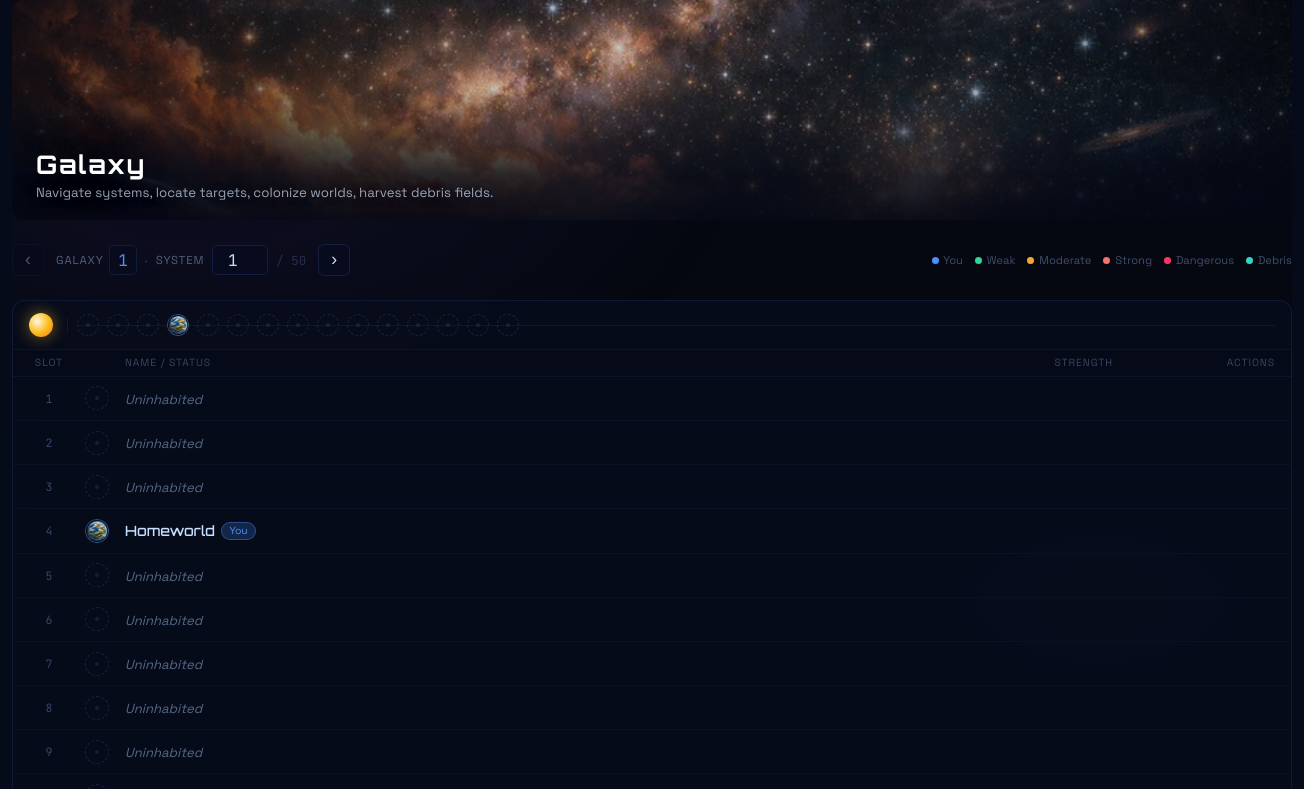
it: GalaxyPanel › prev button decrements system and syncs the inline input
The width and height of the screenshot is (1304, 789).
Navigate to system 3 first
Replace the text in the number field labelled "System" with "3" at (240, 260), box [212,245,268,275]
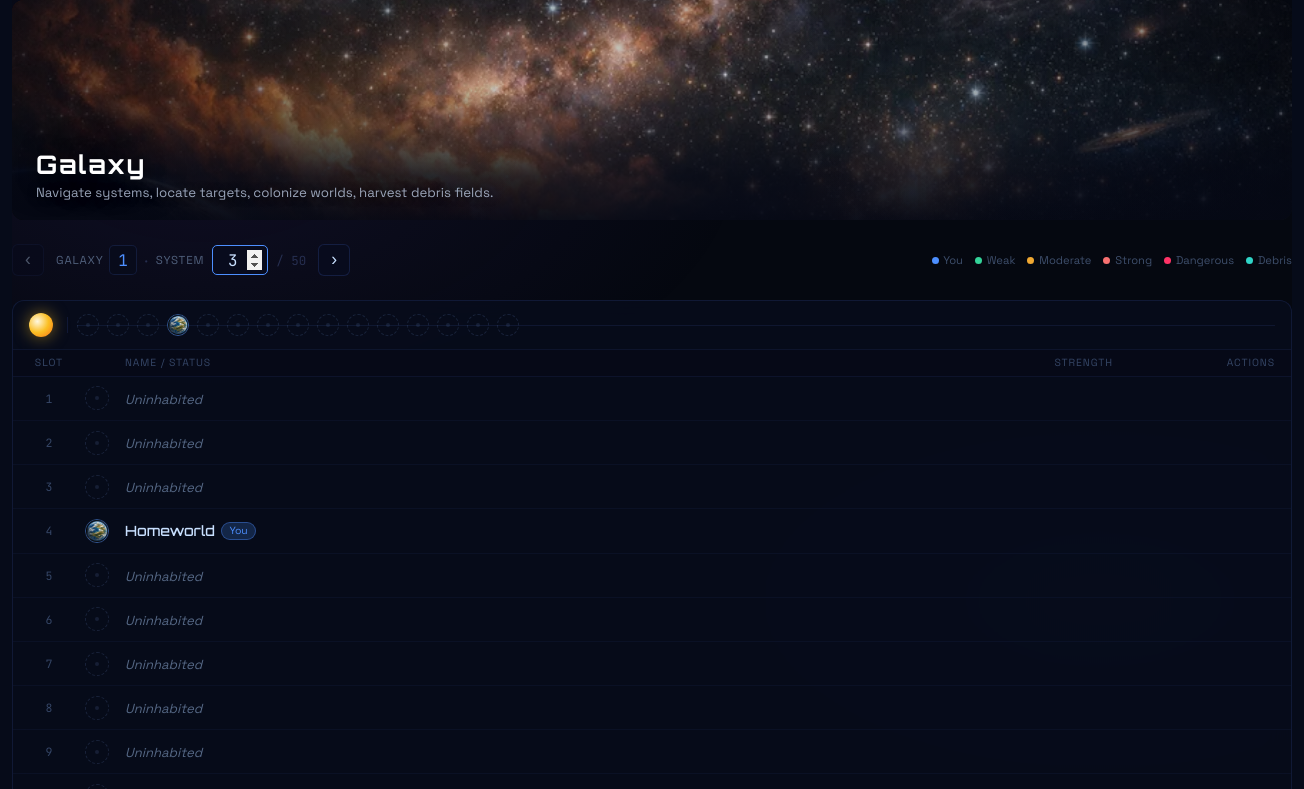
Press Tab
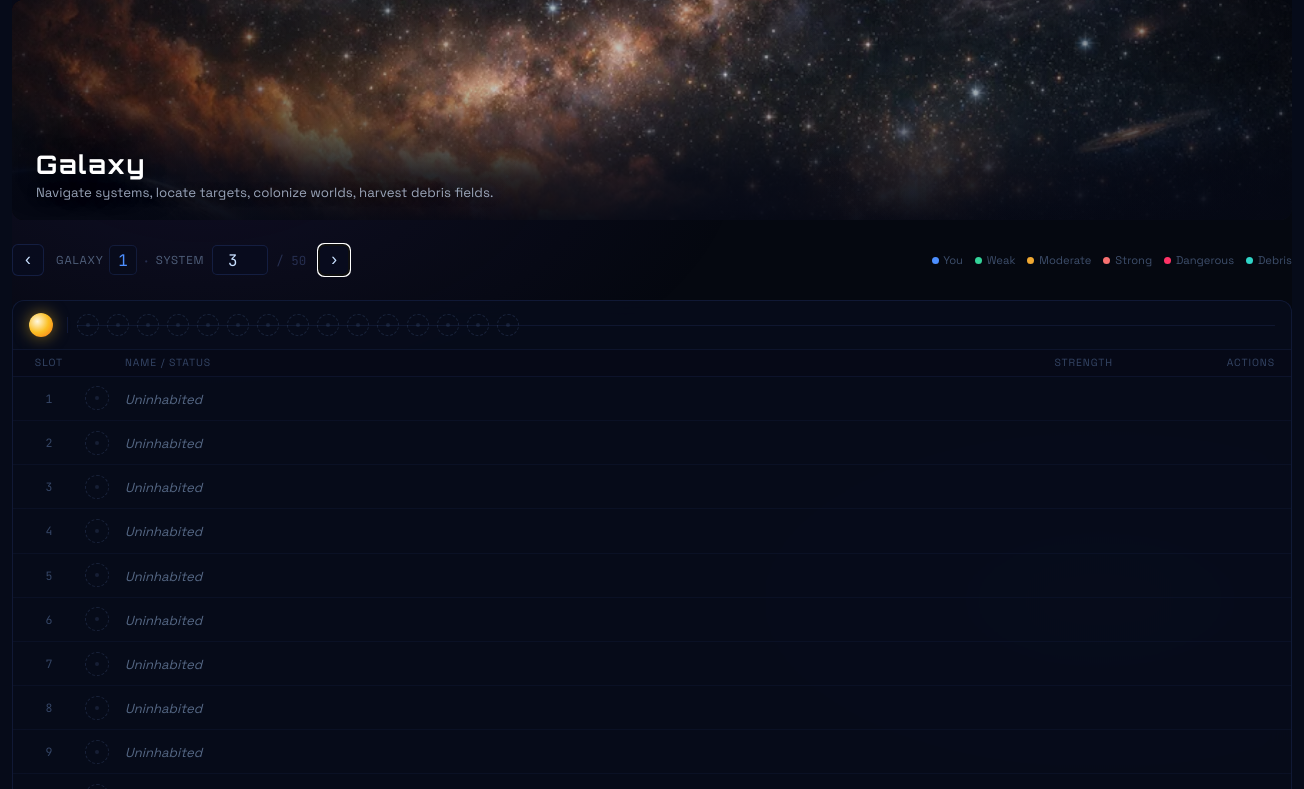
Click the button named "Previous system" at (28, 260), box [12,244,44,276]
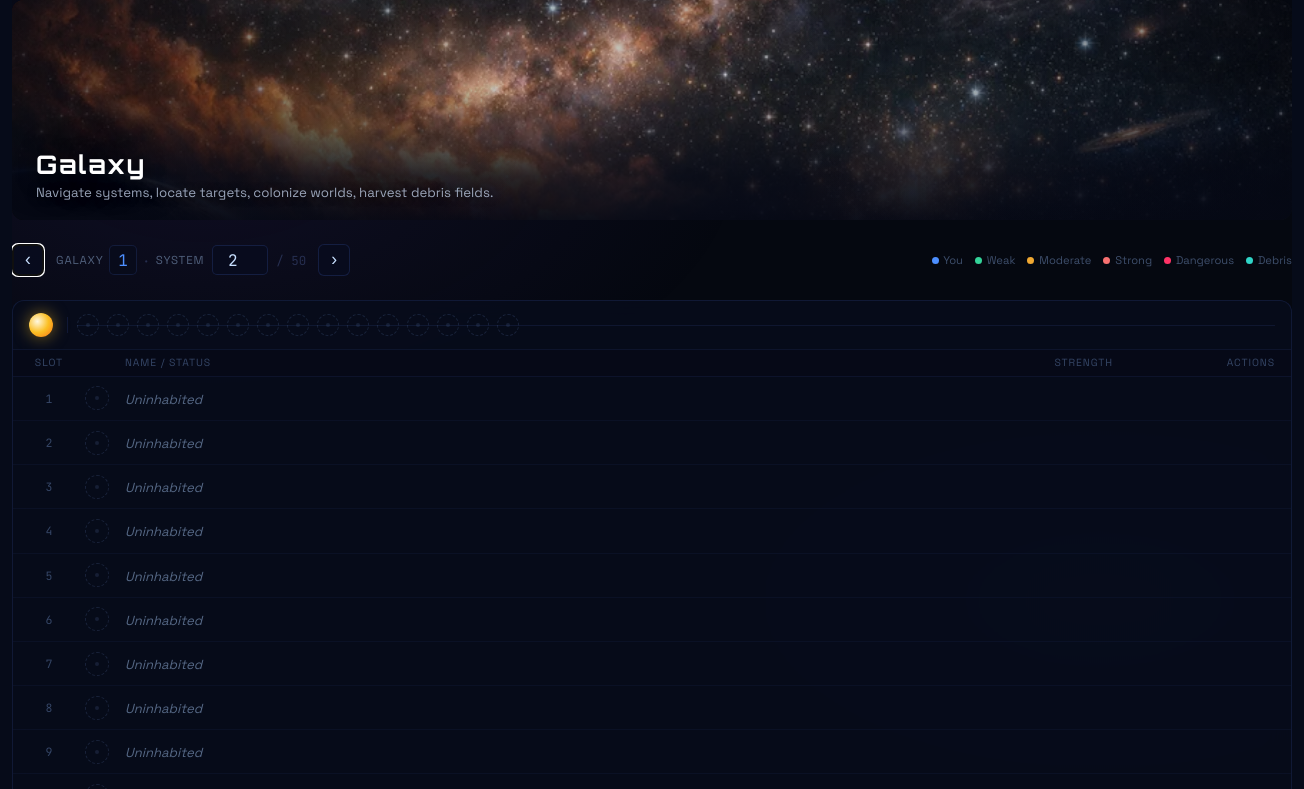
Check: the number field labelled "System" holds "2", box [212,245,268,275]
